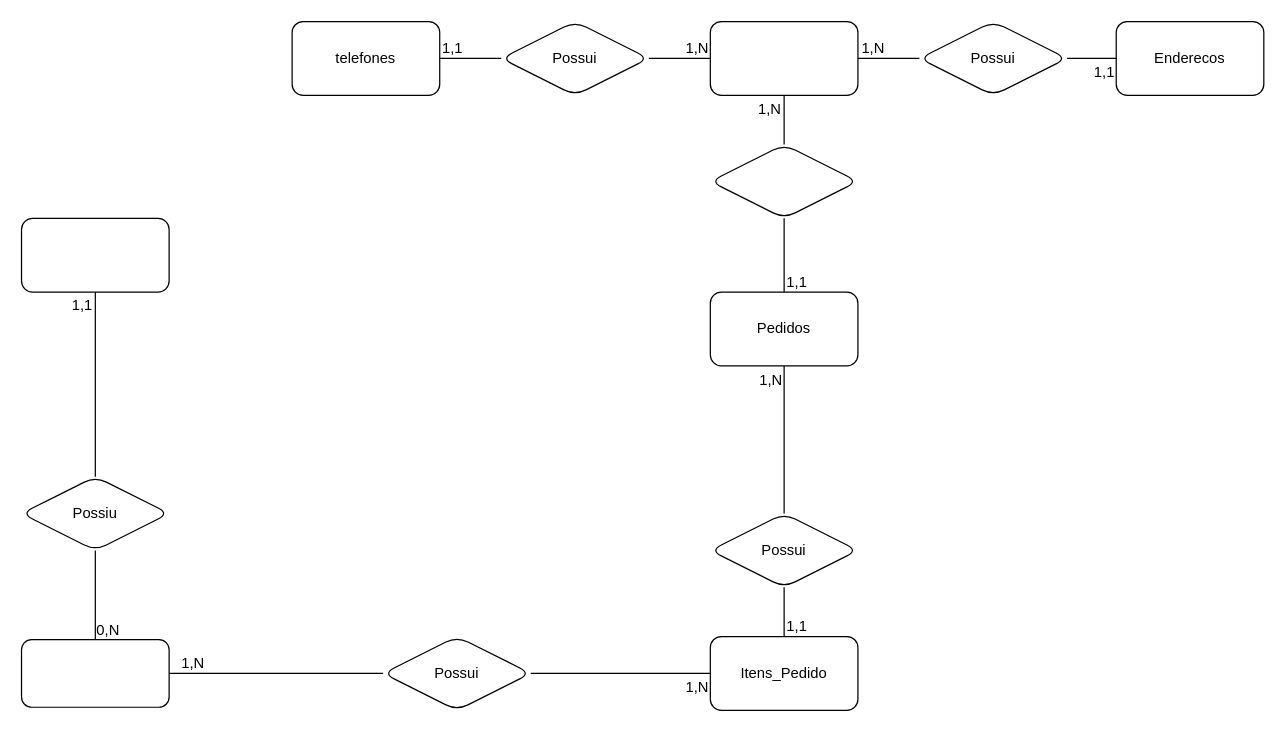
This 1285x732 diagram has some shape labels left out. Here are the shapes that lost their labels. From the top down, the centre of each, then its label:
At (783,57): "clientes".
At (783,180): "Realiza".
At (94,254): "Categorias".
At (94,672): "Produtos".
